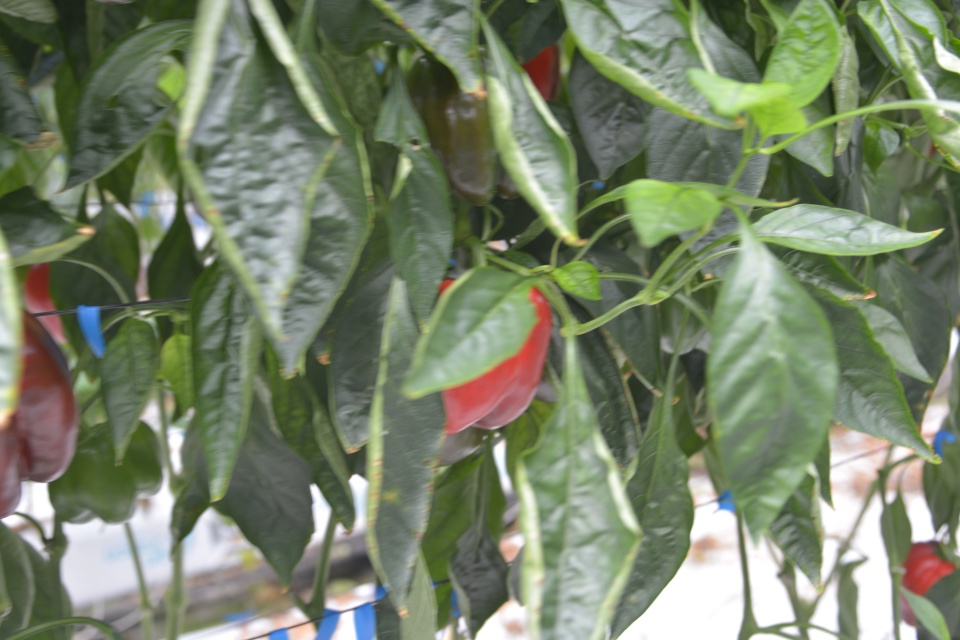fruit: (409, 46, 526, 206), (439, 276, 555, 435), (0, 308, 77, 521), (46, 416, 165, 525), (898, 539, 958, 627)
